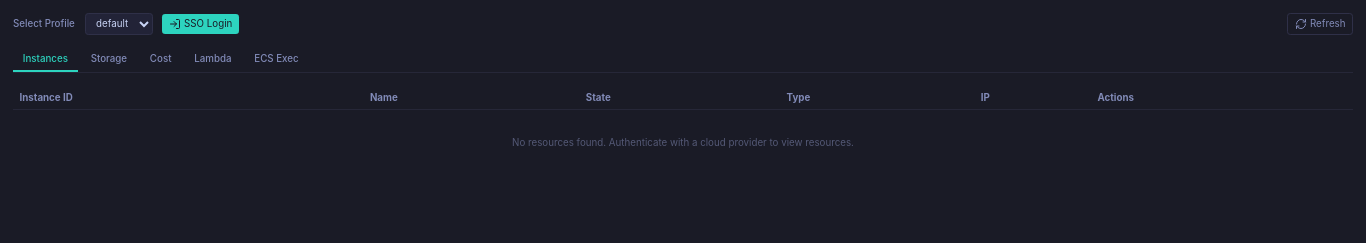
Test: AwsPanel › switches to the cost tab and shows the summary
What coordinates should you click on to do the following:
click the button "Cost"
I would click on:
 (161, 60)
Its box is [140, 48, 181, 72].
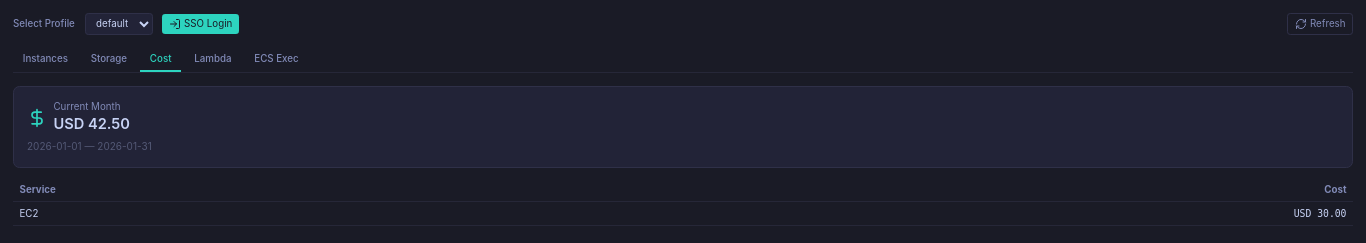
expect the text "USD 42.50" is shown: met, box [54, 113, 130, 136]
expect the text "EC2" is shown: met, box [13, 201, 587, 225]
